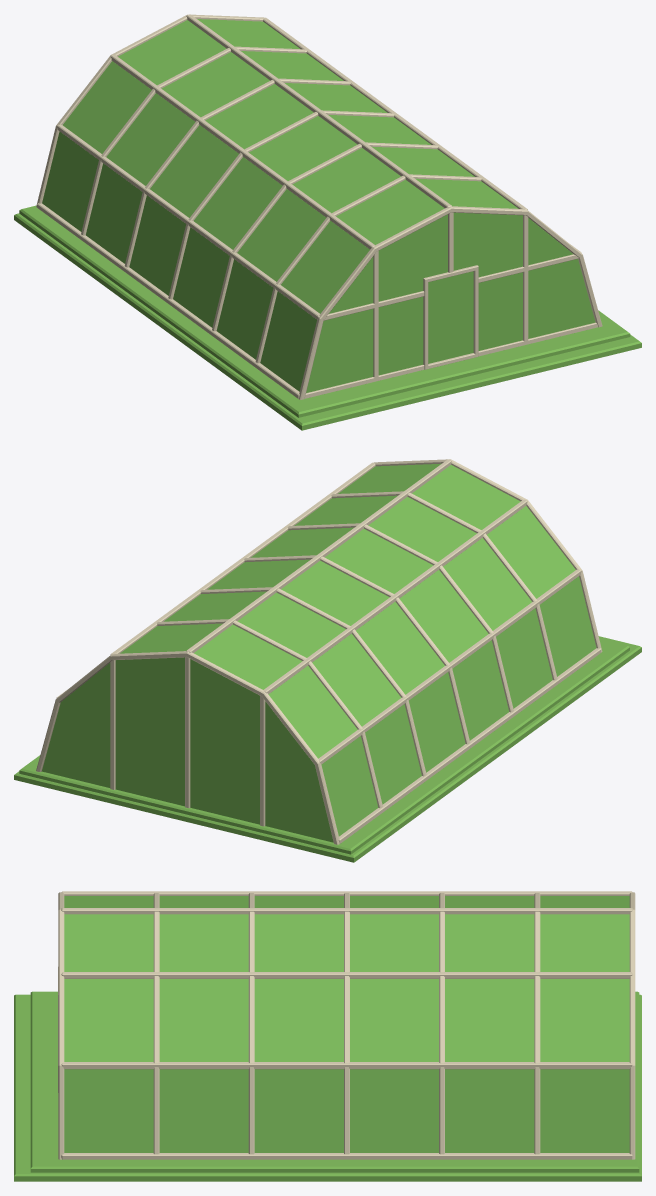
The model's file is greenhouse_b01.gltf.
3 renders of one model, top to bottom at view 1: azimuth 30°, elevation 25°; view 2: azimuth 150°, elevation 25°; view 3: azimuth 270°, elevation 25°, orthographic. The views are drawn at different scales.
Parts seen in each view (by area): view 1: greenhouse_b01_001; view 2: greenhouse_b01_001; view 3: greenhouse_b01_001.
Part boxes in pixels (x1,y1,x2,y2): greenhouse_b01_001: [14, 14, 641, 430]; greenhouse_b01_001: [14, 459, 641, 862]; greenhouse_b01_001: [14, 891, 641, 1181].
Size of the model in its own units: 7.18 by 3.37 by 10.52.
1 material, 1 textured.
